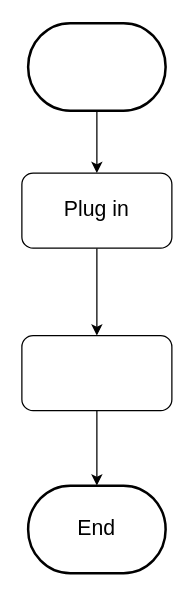
Some shapes in this 194 by 595 pixel diagram are drawn without their labels. The centre of each missing label's shape, as x and y in pixels:
Press the button: the point at 96,372
Turn on: the point at 96,66
